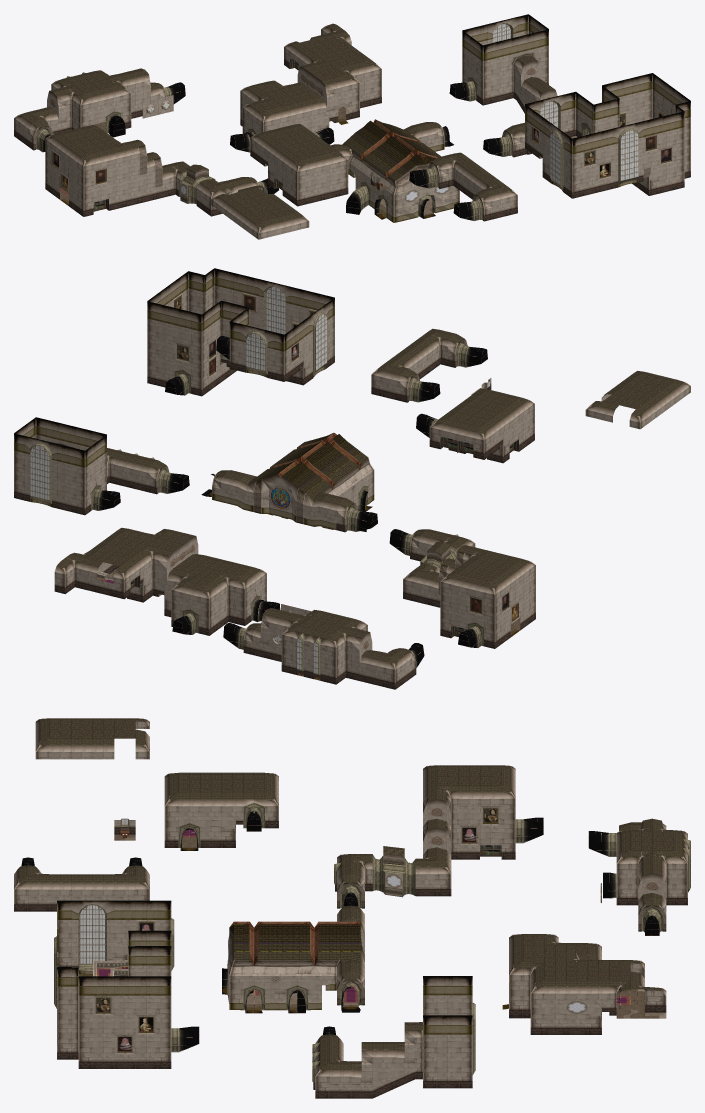
The picture shows the model from 3 angles, top to bottom: view 1: azimuth 30°, elevation 25°; view 2: azimuth 150°, elevation 25°; view 3: azimuth 270°, elevation 25°; orthographic projection. The views are drawn at different scales.
Parts seen in each view (by area): view 1: T1L4M001_460, T1L4M001_459, T1L4M001_461, T1L4M001_401, T1L4M001_41, T1L4M001_204, T1L4M001_562, T1L4M001_699, T1L4M001_407, T1L4M001_335, T1L4M001_339, T1L4M001_431 (+9 smaller); view 2: T1L4M001_358, T1L4M001_359; view 3: T1L4M001_435, T1L4M001_405, T1L4M001_421, T1L4M001_448, T1L4M001_334, T1L4M001_340, T1L4M001_463, T1L4M001_483, T1L4M001_337, T1L4M001_368, T1L4M001_344, T1L4M001_404 (+2 smaller).
Part boxes in pixels (x1,y1,x2,y2): T1L4M001_460: (398, 156, 426, 220); T1L4M001_459: (388, 173, 404, 222); T1L4M001_461: (418, 155, 442, 218); T1L4M001_401: (352, 147, 374, 189); T1L4M001_41: (45, 90, 66, 126); T1L4M001_204: (314, 79, 334, 114); T1L4M001_562: (427, 159, 448, 188); T1L4M001_699: (471, 191, 492, 221); T1L4M001_407: (501, 127, 521, 157); T1L4M001_335: (516, 58, 535, 94); T1L4M001_339: (183, 167, 203, 204); T1L4M001_431: (370, 161, 391, 212); T1L4M001_358: (280, 468, 309, 523); T1L4M001_359: (262, 467, 288, 518); T1L4M001_435: (254, 951, 286, 1010); T1L4M001_405: (297, 951, 329, 1010); T1L4M001_421: (275, 951, 307, 1013); T1L4M001_448: (243, 951, 264, 1013); T1L4M001_334: (394, 849, 415, 897); T1L4M001_340: (372, 848, 393, 895); T1L4M001_463: (228, 951, 243, 1010); T1L4M001_483: (178, 813, 200, 850); T1L4M001_337: (394, 1024, 415, 1064); T1L4M001_368: (351, 1044, 372, 1083); T1L4M001_344: (372, 1064, 393, 1098); T1L4M001_404: (299, 934, 329, 965).
Bounding box in the file's own units: 121 × 31 × 126.
Materials: 1 (1 with a texture image).
